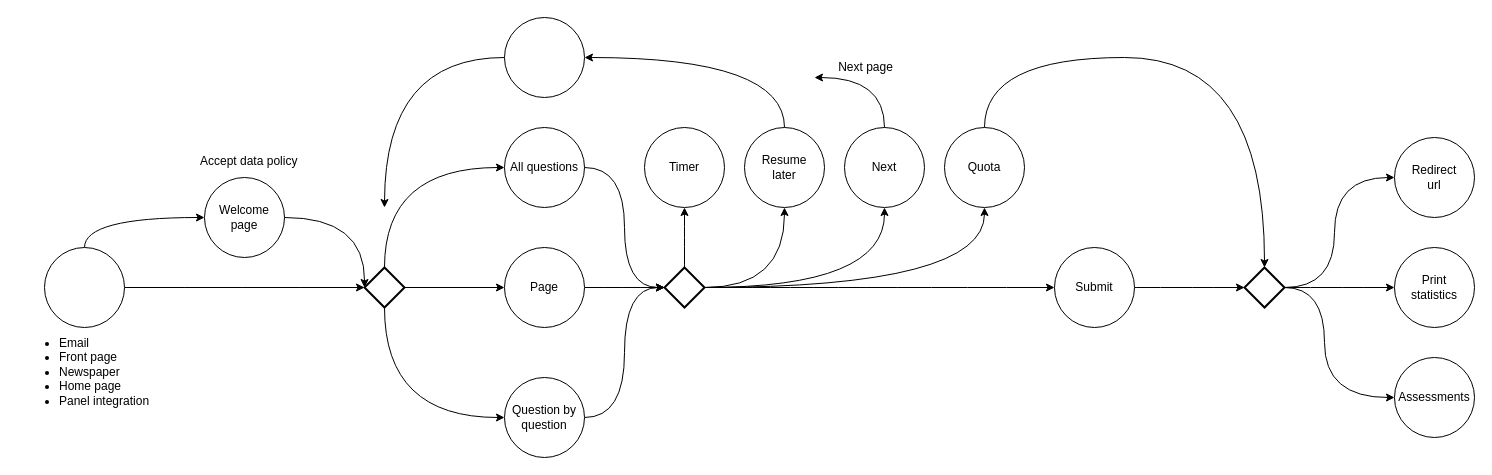
This 1492x475 diagram has some shape labels left out. The shapes that lost their labels are listed below. From the top down, each one's centre as x and y in pixels, then its label:
the point at 544,57: Resume link
the point at 84,287: Get link
